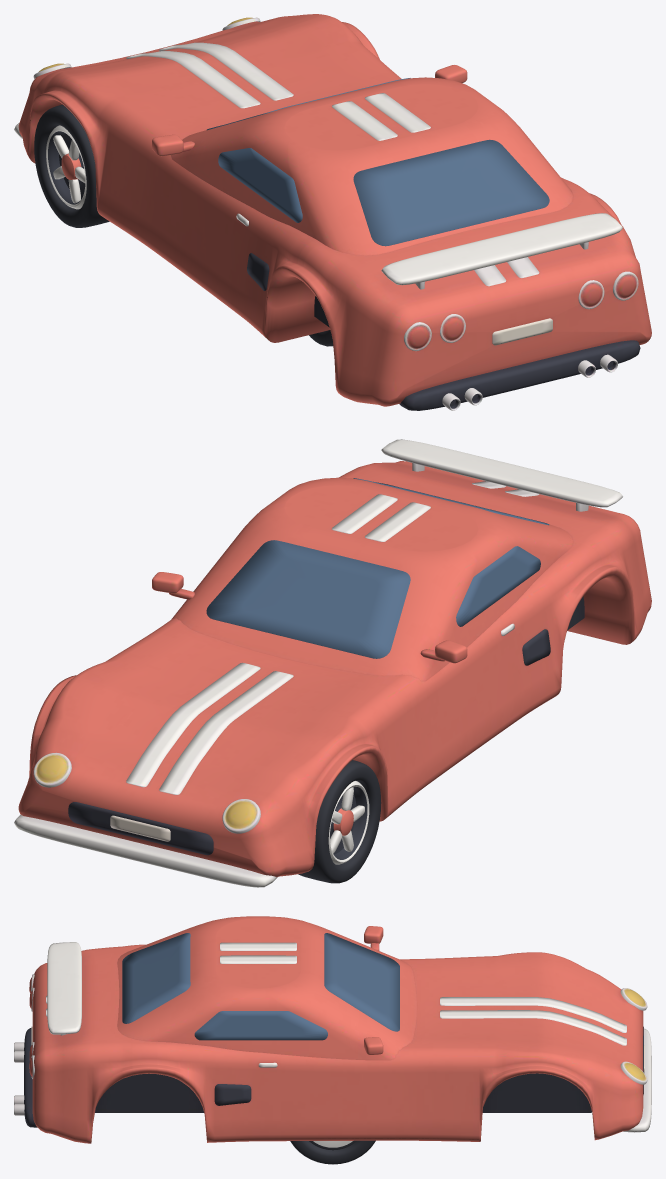
3 renders of one model, top to bottom at view 1: azimuth 30°, elevation 25°; view 2: azimuth 150°, elevation 25°; view 3: azimuth 270°, elevation 25°, orthographic. The views are drawn at different scales.
Parts seen in each view (by area): view 1: bodyPainted, windows, wheelCylinder; view 2: bodyPainted, windows, wheelCylinder; view 3: bodyPainted, windows, wheelPainted.
Boxes of the visible parts, <box> form: bodyPainted: <box>14,14,651,410</box>; windows: <box>207,78,549,246</box>; wheelCylinder: <box>34,104,109,227</box>; bodyPainted: <box>14,439,651,887</box>; windows: <box>206,478,549,658</box>; wheelCylinder: <box>298,760,381,883</box>; bodyPainted: <box>14,916,651,1143</box>; windows: <box>122,933,399,1040</box>; wheelPainted: <box>290,1140,375,1164</box>.
Size of the model in its own units: 1.97 by 1.56 by 4.38.
6 materials, 1 textured.
